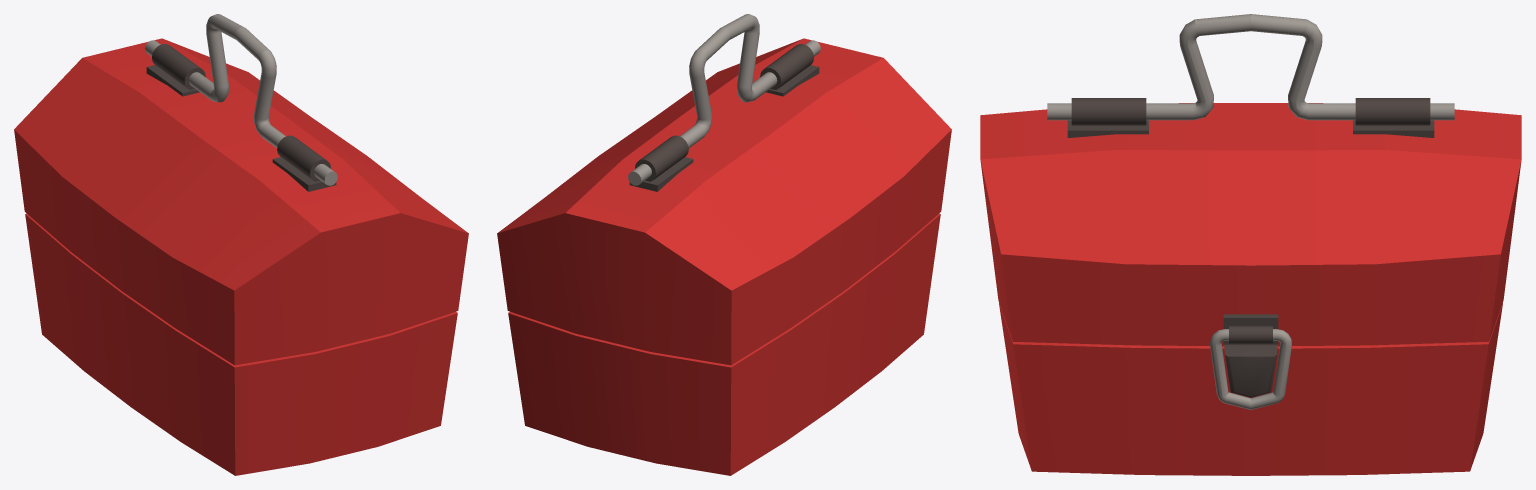
Rendered from Buff.fbx.
3 views of the same model, side by side, from view 1: azimuth 30°, elevation 25°; view 2: azimuth 150°, elevation 25°; view 3: azimuth 270°, elevation 25° (orthographic). The views are drawn at different scales.
Parts seen in each view (by area): view 1: Cube; view 2: Cube; view 3: Cube.
Boxes of the visible parts, x1=… form: Cube: x1=14, y1=14, x2=468, y2=475; Cube: x1=497, y1=14, x2=951, y2=475; Cube: x1=980, y1=14, x2=1521, y2=475.
Size of the model in its own units: 221 by 279 by 343.
